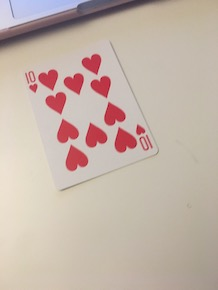TenOfHearts: (12, 35, 160, 193)
